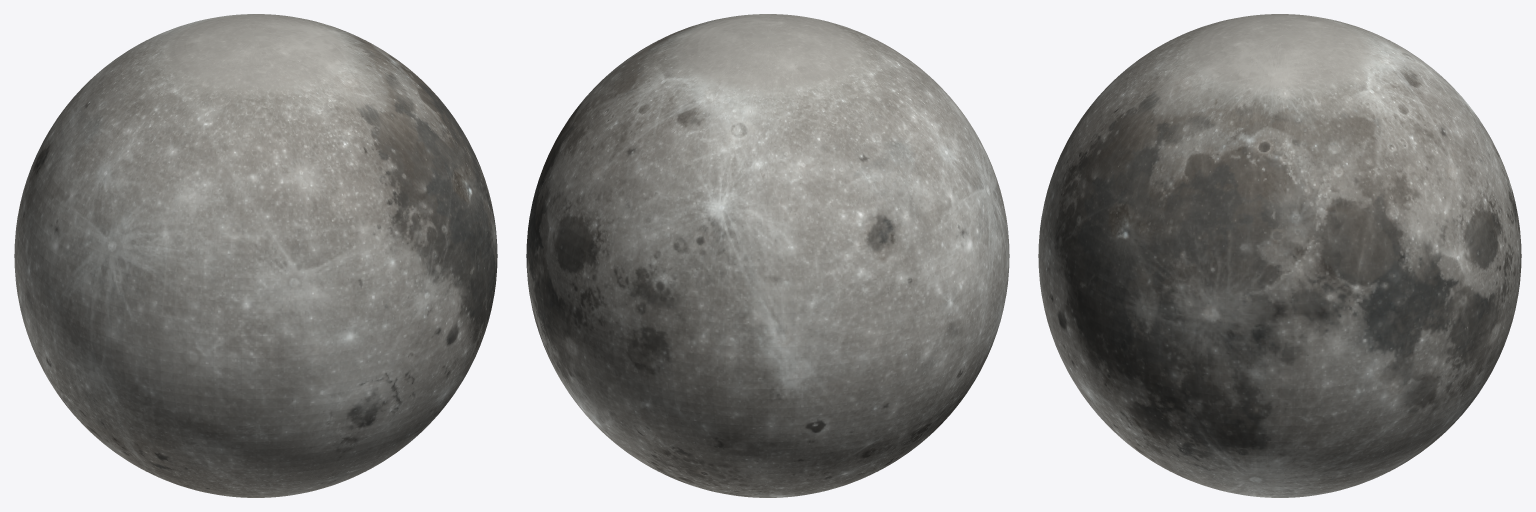
File: moon_3.glb
3 renders of one model, left to right at view 1: azimuth 30°, elevation 25°; view 2: azimuth 150°, elevation 25°; view 3: azimuth 270°, elevation 25°, orthographic.
Visible parts, largest first — view 1: Sphere; view 2: Sphere; view 3: Sphere.
Part boxes in pixels (x1,y1,x2,y2): Sphere: (14,14,497,497); Sphere: (526,14,1009,497); Sphere: (1038,14,1521,497).
Bounding box in the file's own units: 1.99 × 2 × 1.99.
Materials: 1 (1 with a texture image).
